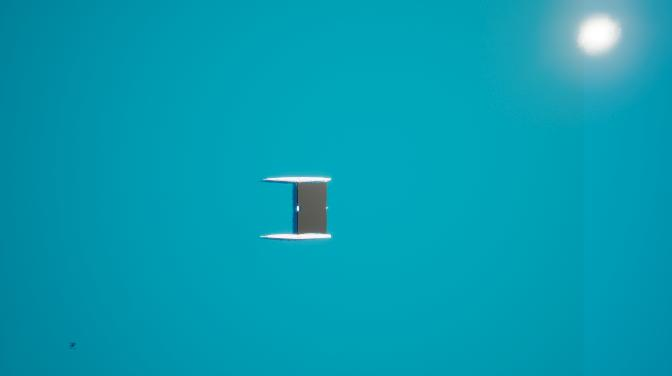boat: (257, 173, 338, 246)
drone: (67, 338, 80, 353)
land_base: (298, 183, 328, 233)
light_reflex: (538, 2, 659, 85)
